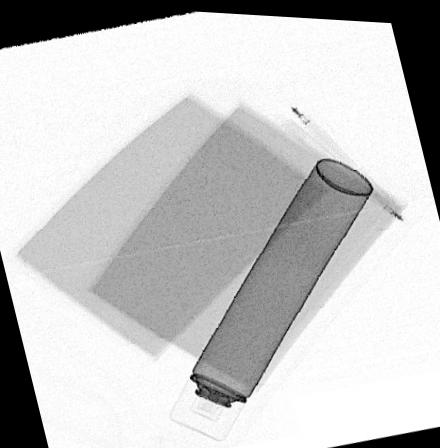Sprayer: (168, 152, 374, 439)
